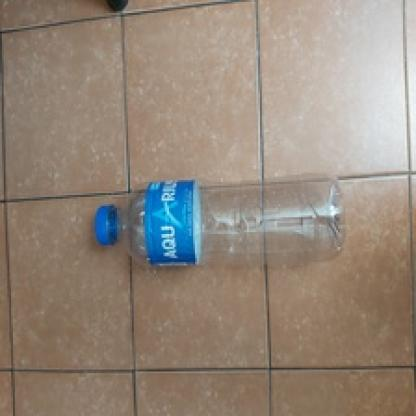plastic_bottles: (87, 174, 351, 272)
